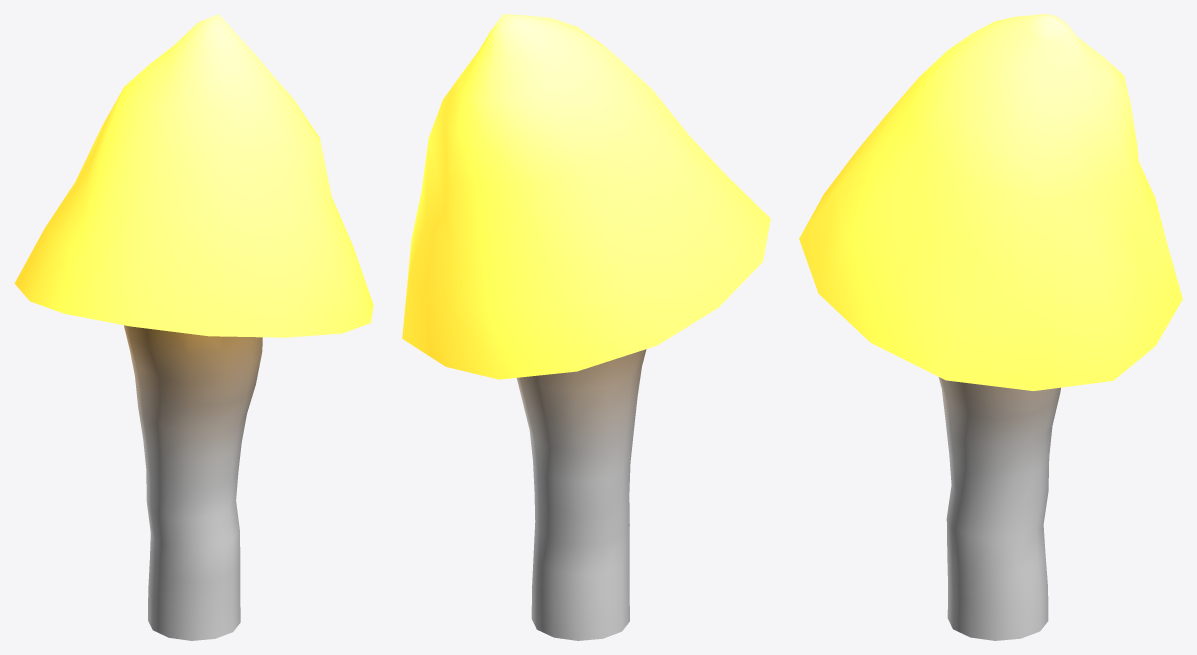
The model's file is mushroom_5.glb.
The picture shows the model from 3 angles, left to right: view 1: azimuth 30°, elevation 25°; view 2: azimuth 150°, elevation 25°; view 3: azimuth 270°, elevation 25°; orthographic projection. The views are drawn at different scales.
Visible parts, largest first — view 1: geo1; view 2: geo1; view 3: geo1.
Boxes of the visible parts, bbox=[...] form: geo1: bbox=[14, 14, 373, 640]; geo1: bbox=[402, 14, 770, 640]; geo1: bbox=[799, 14, 1182, 640].
Size of the model in its own units: 0.1796 by 0.3238 by 0.1796.
